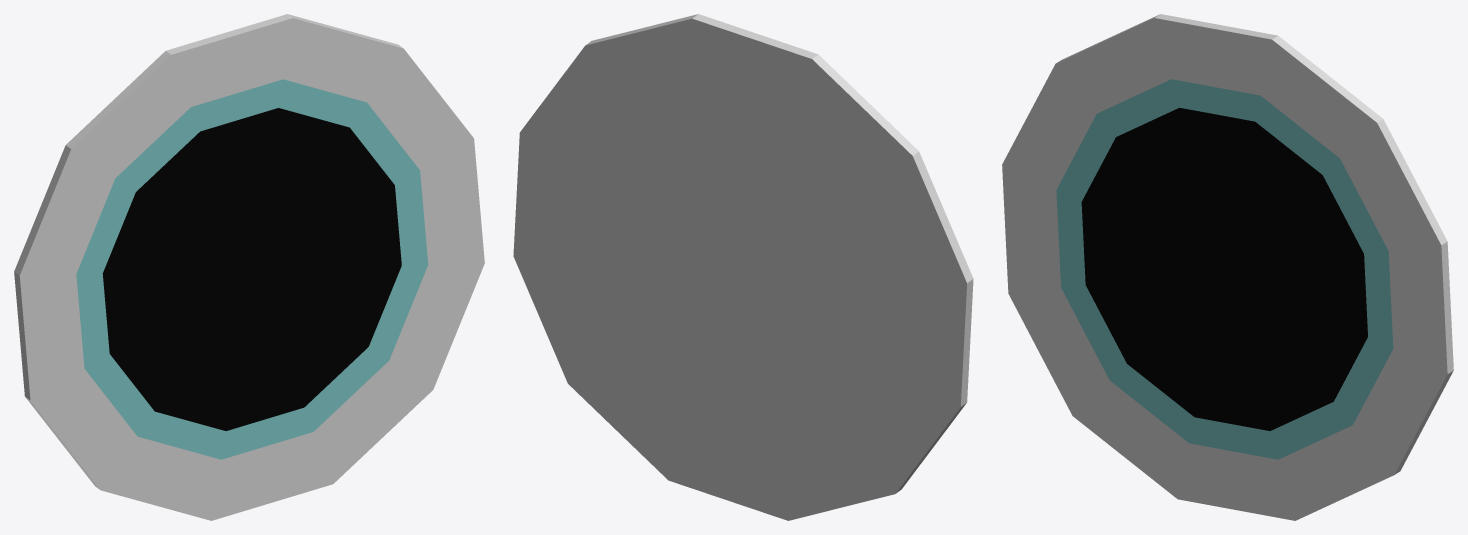
File: emarV-X1_Animation_1.fbx
3 renders of one model, left to right at view 1: azimuth 30°, elevation 25°; view 2: azimuth 150°, elevation 25°; view 3: azimuth 330°, elevation 25°, orthographic.
Visible parts, largest first — view 1: Right Eye; view 2: Right Eye; view 3: Right Eye.
Part boxes in pixels (<box>): Right Eye: <box>14,14,484,520</box>; Right Eye: <box>513,14,973,520</box>; Right Eye: <box>1002,14,1453,520</box>.
Bounding box in the file's own units: 8.84 × 8.84 × 0.5909.
